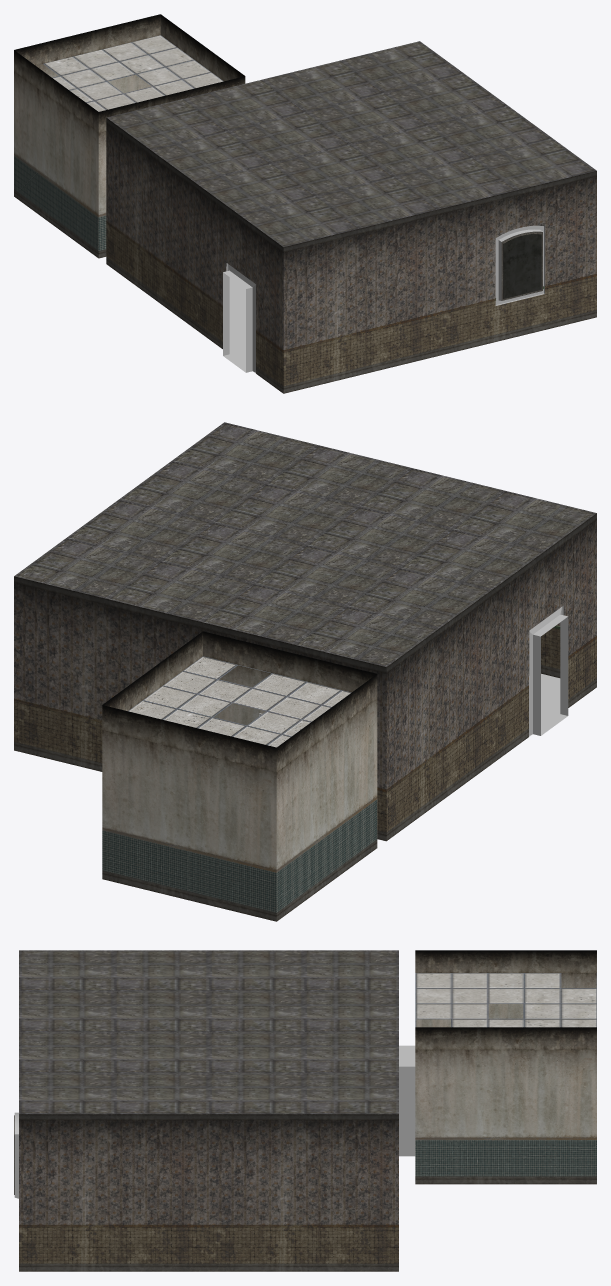
The model's file is SharedRoomB_2x3.FBX.
The picture shows the model from 3 angles, top to bottom: view 1: azimuth 30°, elevation 25°; view 2: azimuth 150°, elevation 25°; view 3: azimuth 270°, elevation 25°; orthographic projection. The views are drawn at different scales.
Visible parts, largest first — view 1: SharedRoomB_2x3; view 2: SharedRoomB_2x3; view 3: SharedRoomB_2x3.
Boxes of the visible parts, <box> form: SharedRoomB_2x3: <box>14,14,596,393</box>; SharedRoomB_2x3: <box>14,422,596,921</box>; SharedRoomB_2x3: <box>14,950,596,1271</box>.
Size of what is drawn, in the model's own units: 945 by 413 by 1390.
